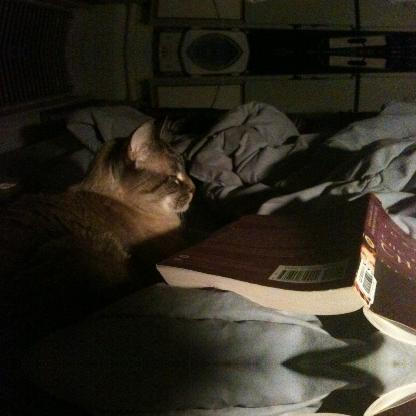Cat: (22, 115, 200, 309)
